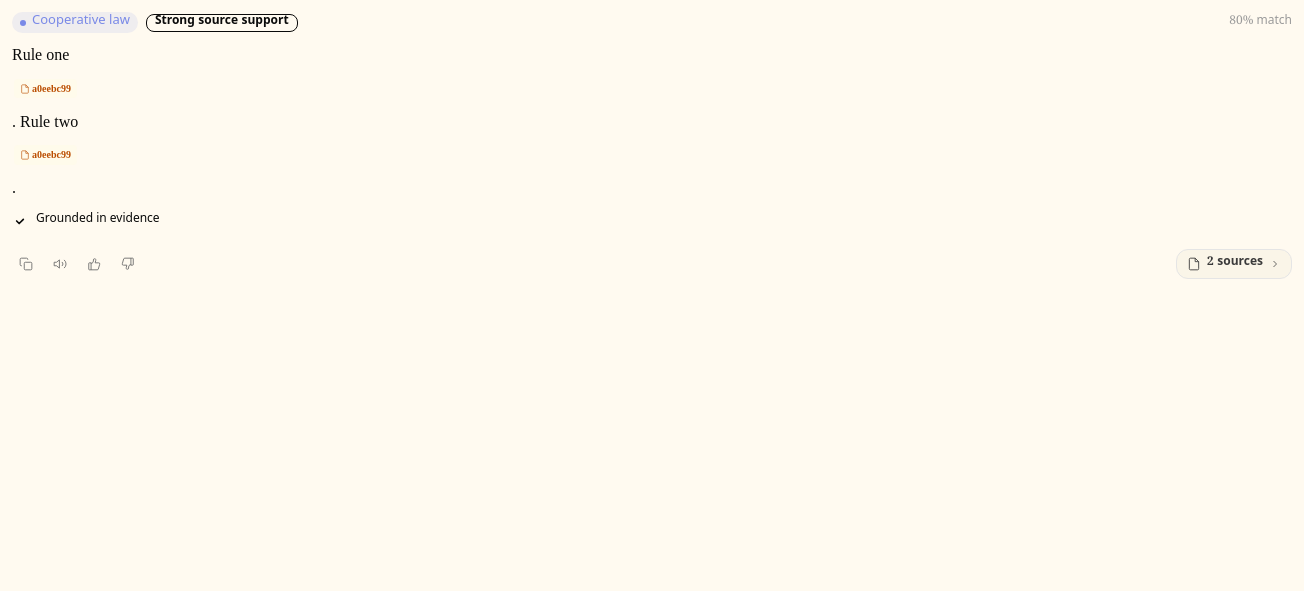
duplicate chunk IDs resolve to the same citation object
The width and height of the screenshot is (1304, 591).
Click the button with aria-label "evidence for citation a0eebc99": (45, 89) [14, 79, 77, 98]
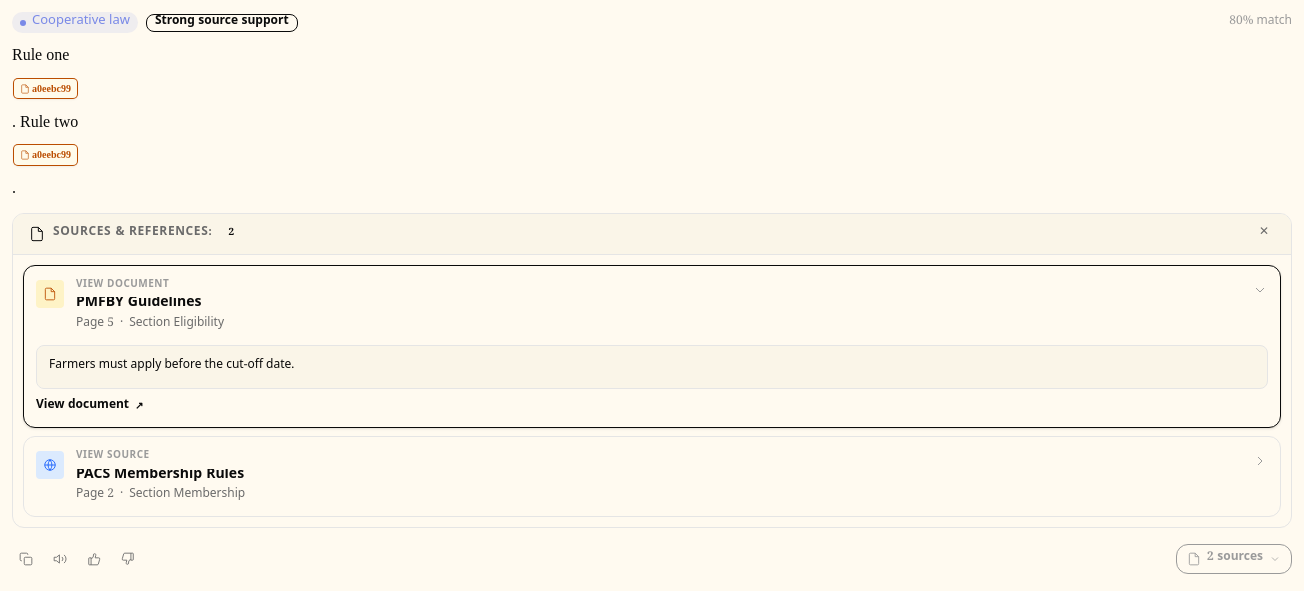
Check: the text "PMFBY Guidelines" is shown once, box [76, 293, 202, 315]
